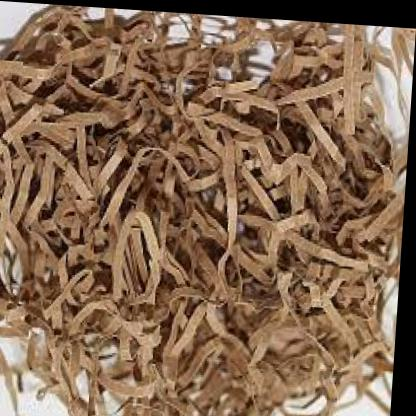Paper: (0, 4, 407, 416)
